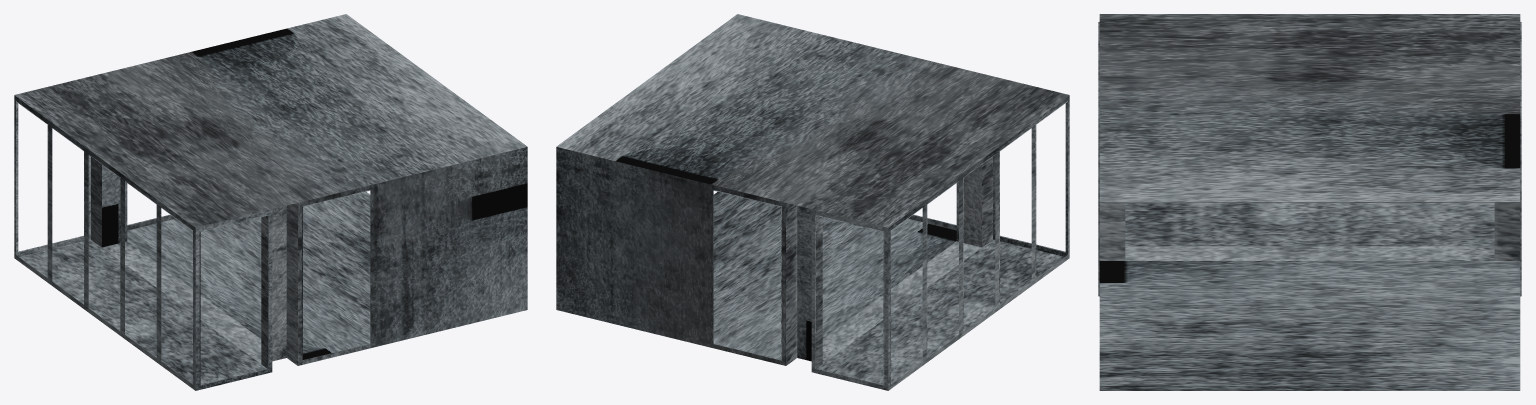
Rendered from minimalistic_modern_office_1.obj.
3 views of the same model, side by side, from view 1: azimuth 30°, elevation 25°; view 2: azimuth 150°, elevation 25°; view 3: azimuth 270°, elevation 25° (orthographic). The views are drawn at different scales.
Bounding box in the file's own units: 9.19 × 4.31 × 8.75.
